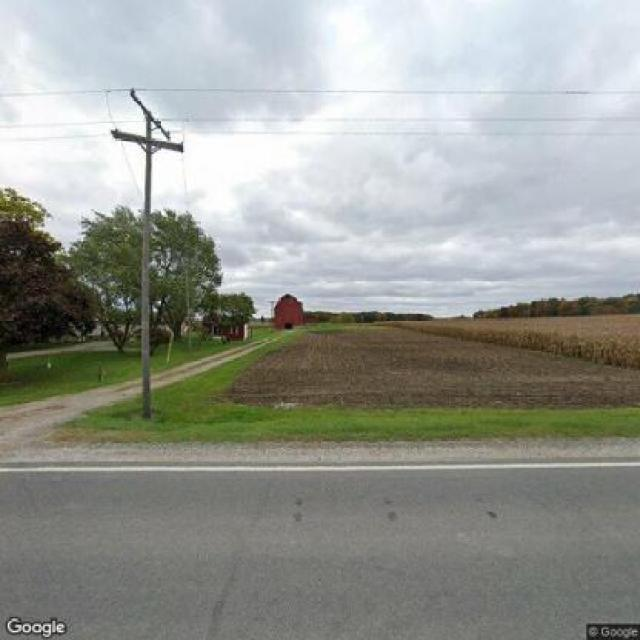pole: (104, 82, 194, 416)
